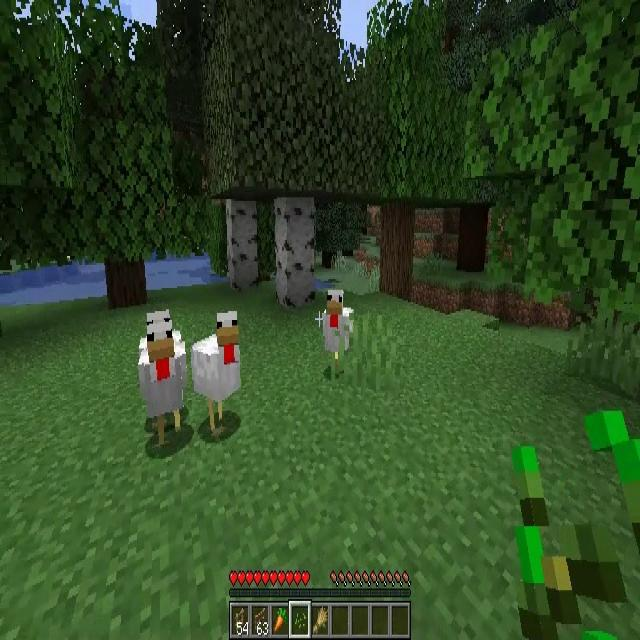duck: (191, 310, 242, 432), (140, 320, 184, 440), (322, 286, 356, 379)
